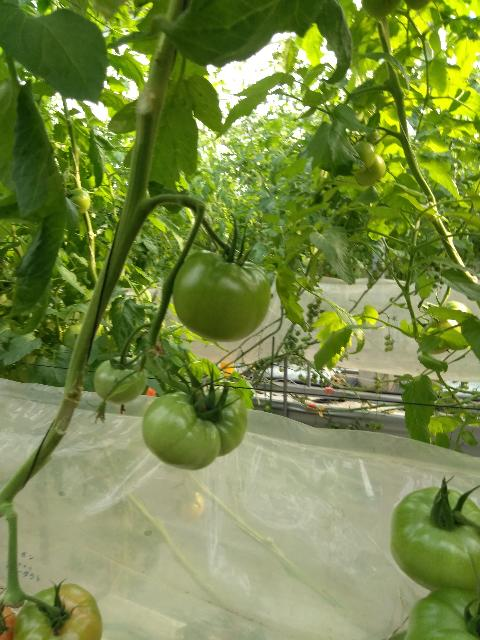b_green: (390, 486, 480, 594), (172, 250, 271, 343), (141, 389, 248, 471), (404, 587, 479, 639), (94, 356, 146, 405), (355, 153, 386, 187), (345, 140, 375, 173), (65, 188, 90, 214)
b_half_ripened: (12, 583, 103, 640)
